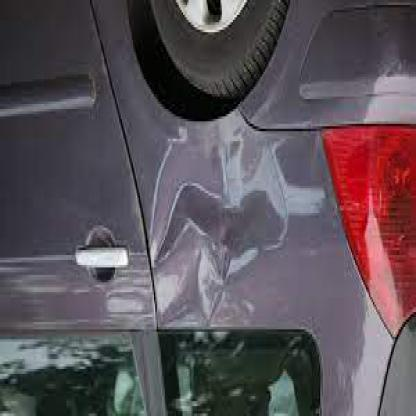dent: (138, 126, 296, 314)
